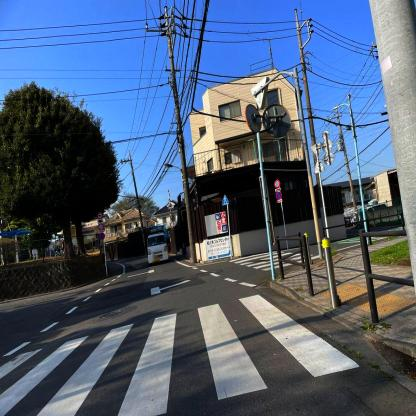Someiyoshino: (106, 192, 163, 220)
